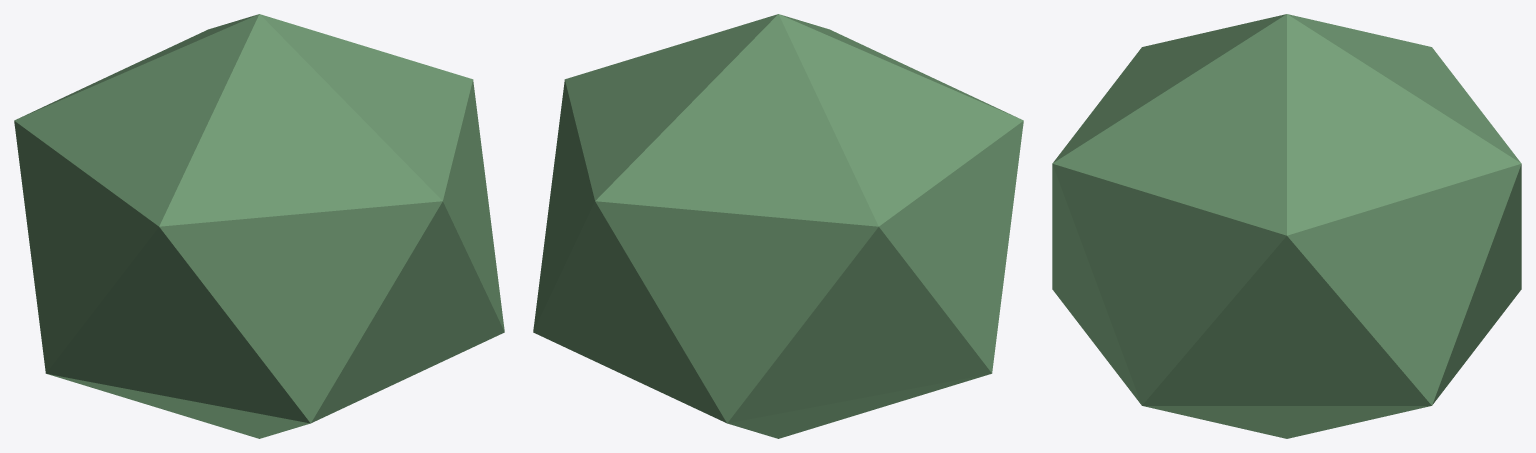
The model's file is veg-bush-a.glb.
3 renders of one model, left to right at view 1: azimuth 30°, elevation 25°; view 2: azimuth 150°, elevation 25°; view 3: azimuth 270°, elevation 25°, orthographic.
Visible parts, largest first — view 1: bush; view 2: bush; view 3: bush.
Boxes of the visible parts, <box> form: bush: <box>14,14,504,438</box>; bush: <box>533,14,1023,438</box>; bush: <box>1052,14,1521,438</box>.
Bounding box in the file's own units: 1.52 × 1.45 × 1.45.
